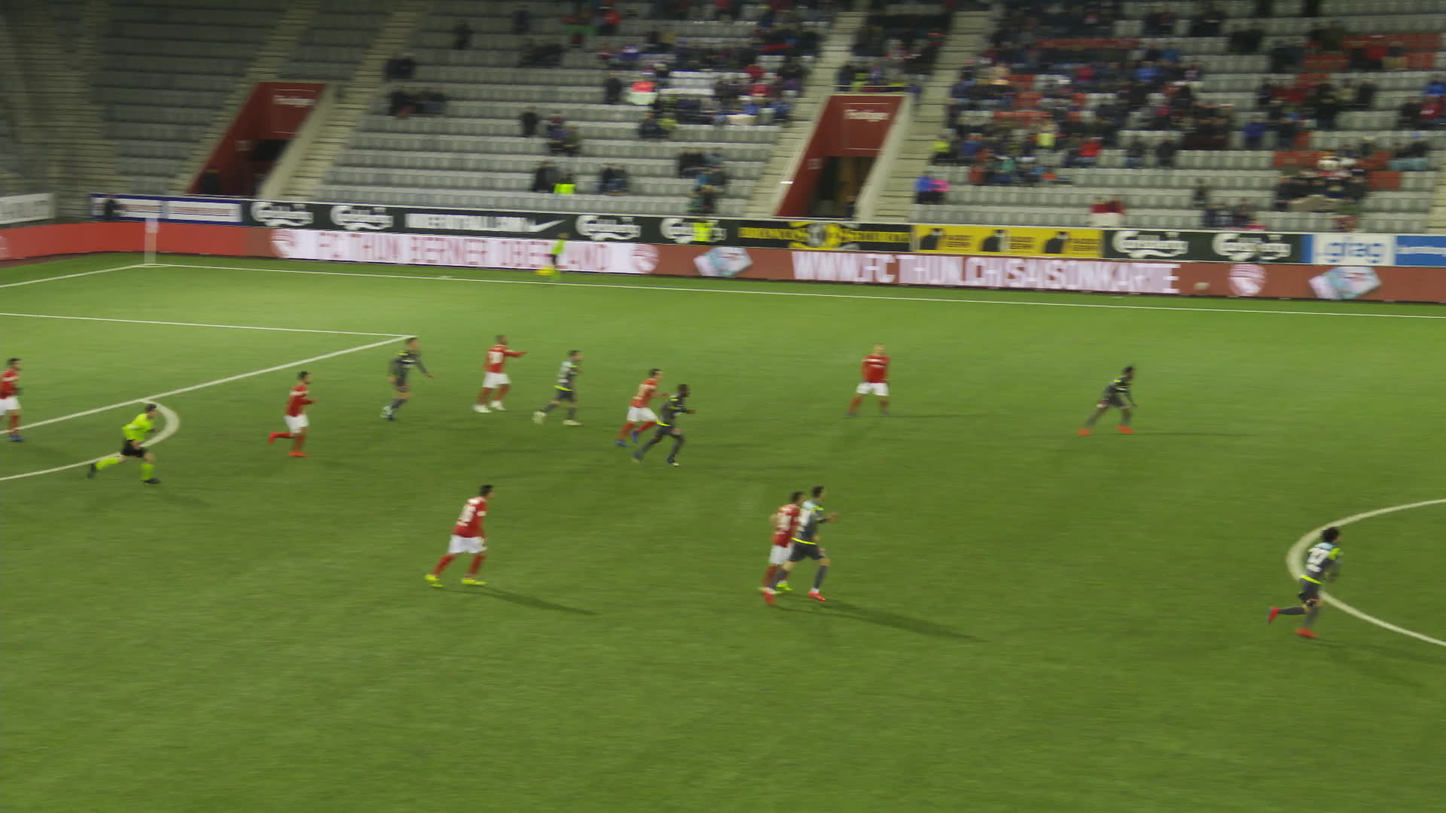player: (1262, 517, 1355, 645), (429, 473, 508, 595), (770, 482, 844, 604), (761, 485, 825, 606), (631, 379, 706, 471), (375, 334, 444, 425), (1078, 358, 1148, 443), (472, 330, 535, 421), (266, 367, 325, 462), (532, 344, 593, 433), (616, 365, 676, 455), (841, 337, 900, 428), (0, 354, 49, 442)
referee: (91, 400, 172, 495), (539, 227, 577, 283)
